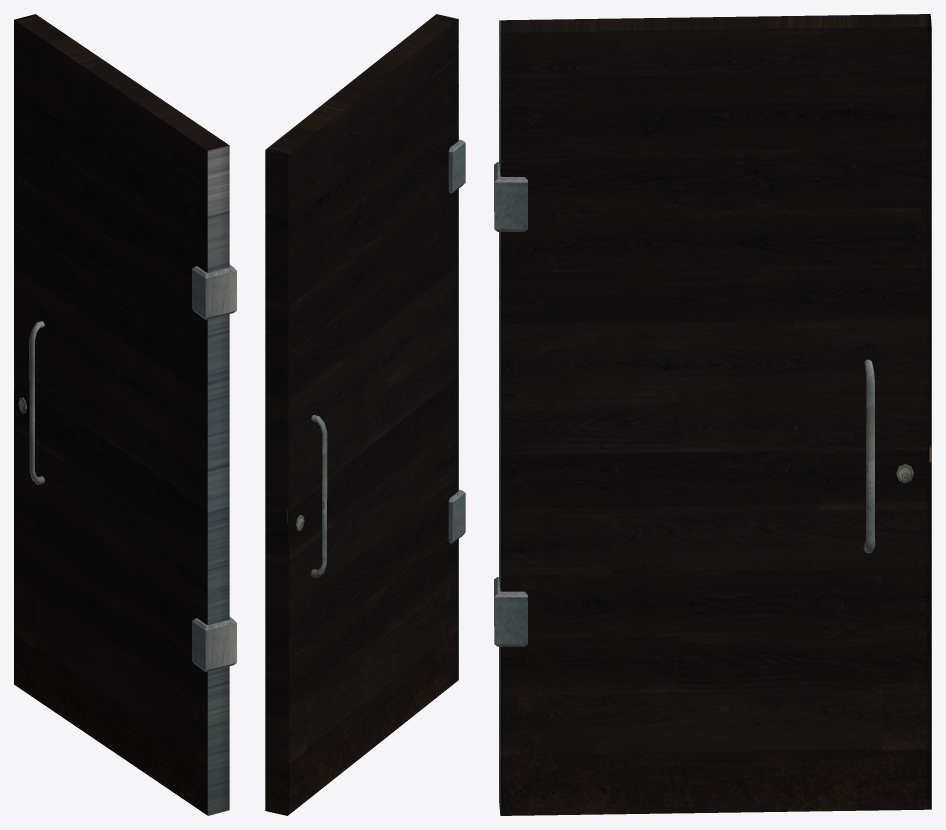
The model's file is NewDoor.fbx.
3 views of the same model, side by side, from view 1: azimuth 30°, elevation 25°; view 2: azimuth 150°, elevation 25°; view 3: azimuth 270°, elevation 25° (orthographic). The views are drawn at different scales.
Visible parts, largest first — view 1: MansionBaseScene14_InsideDoor, MansionBaseScene14_Hinge2, MansionBaseScene14_Hinge3, Handle1; view 2: MansionBaseScene14_InsideDoor, Handle1, MansionBaseScene14_Hinge2, MansionBaseScene14_Hinge3; view 3: MansionBaseScene14_InsideDoor, MansionBaseScene14_Hinge2, MansionBaseScene14_Hinge3, Handle.
Boxes of the visible parts, box(x1,y1,x2,y2) form: MansionBaseScene14_InsideDoor: box(14, 14, 229, 815); MansionBaseScene14_Hinge2: box(192, 617, 236, 671); MansionBaseScene14_Hinge3: box(192, 265, 236, 319); Handle1: box(29, 321, 44, 484); MansionBaseScene14_InsideDoor: box(265, 14, 458, 815); Handle1: box(311, 415, 327, 577); MansionBaseScene14_Hinge2: box(448, 490, 465, 543); MansionBaseScene14_Hinge3: box(448, 139, 465, 193); MansionBaseScene14_InsideDoor: box(499, 14, 931, 815); MansionBaseScene14_Hinge2: box(494, 577, 527, 646); MansionBaseScene14_Hinge3: box(494, 162, 527, 231); Handle: box(863, 359, 875, 553).
Bounding box in the file's own units: 6.14 × 79.48 × 40.27.
1 material, 1 textured.
